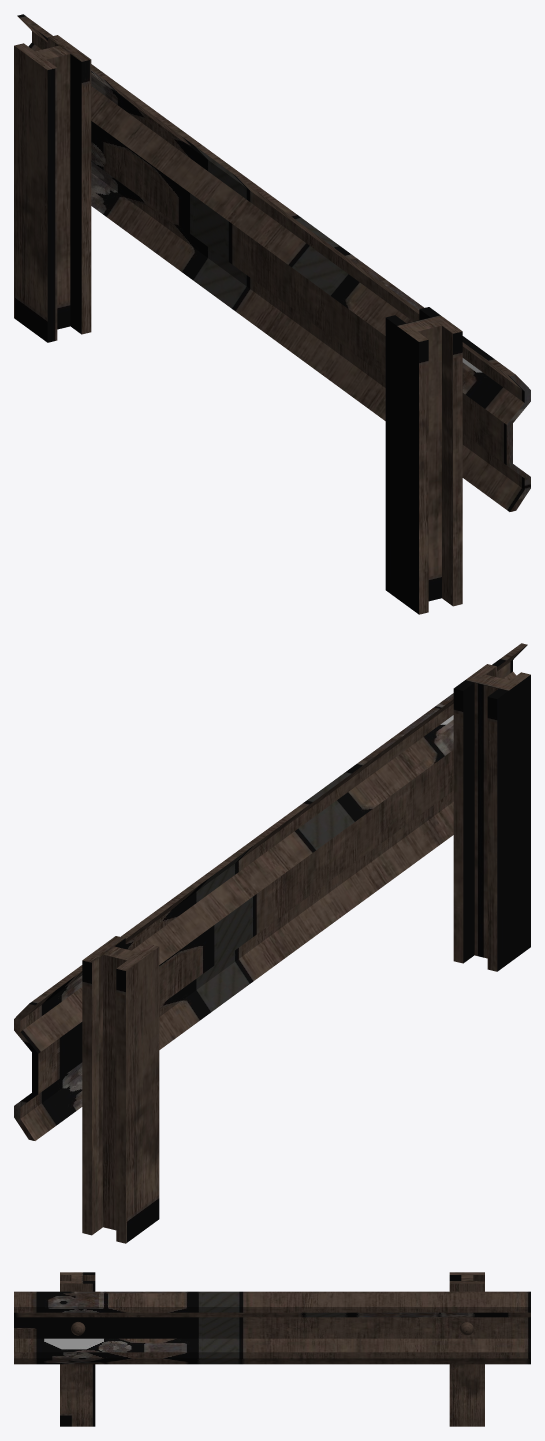
3 views of the same model, one above another, from view 1: azimuth 30°, elevation 25°; view 2: azimuth 150°, elevation 25°; view 3: azimuth 270°, elevation 25° (orthographic). The views are drawn at different scales.
Visible parts, largest first — view 1: Cube_0; view 2: Cube_0; view 3: Cube_0.
Boxes of the visible parts, bbox=[...] form: Cube_0: bbox=[14, 14, 530, 614]; Cube_0: bbox=[14, 643, 530, 1243]; Cube_0: bbox=[14, 1272, 530, 1426].
Size of the model in its own units: 0.3506 by 1.34 by 4.4.
